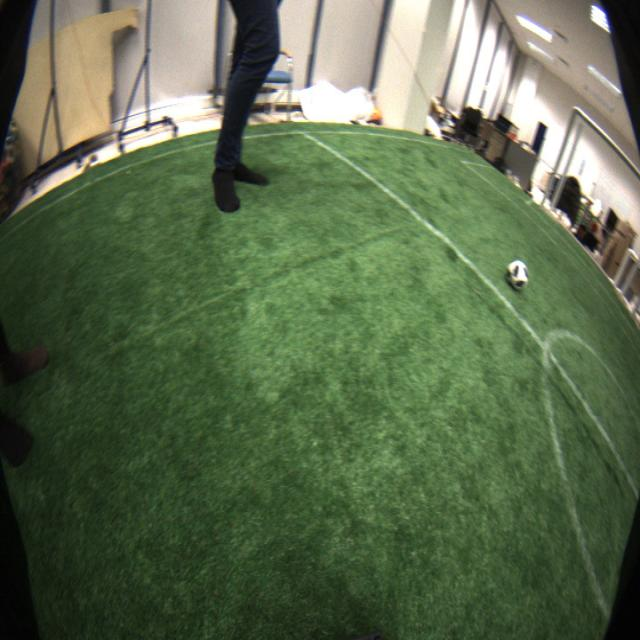ball: (507, 259, 530, 293)
goalpost: (537, 103, 578, 210)
